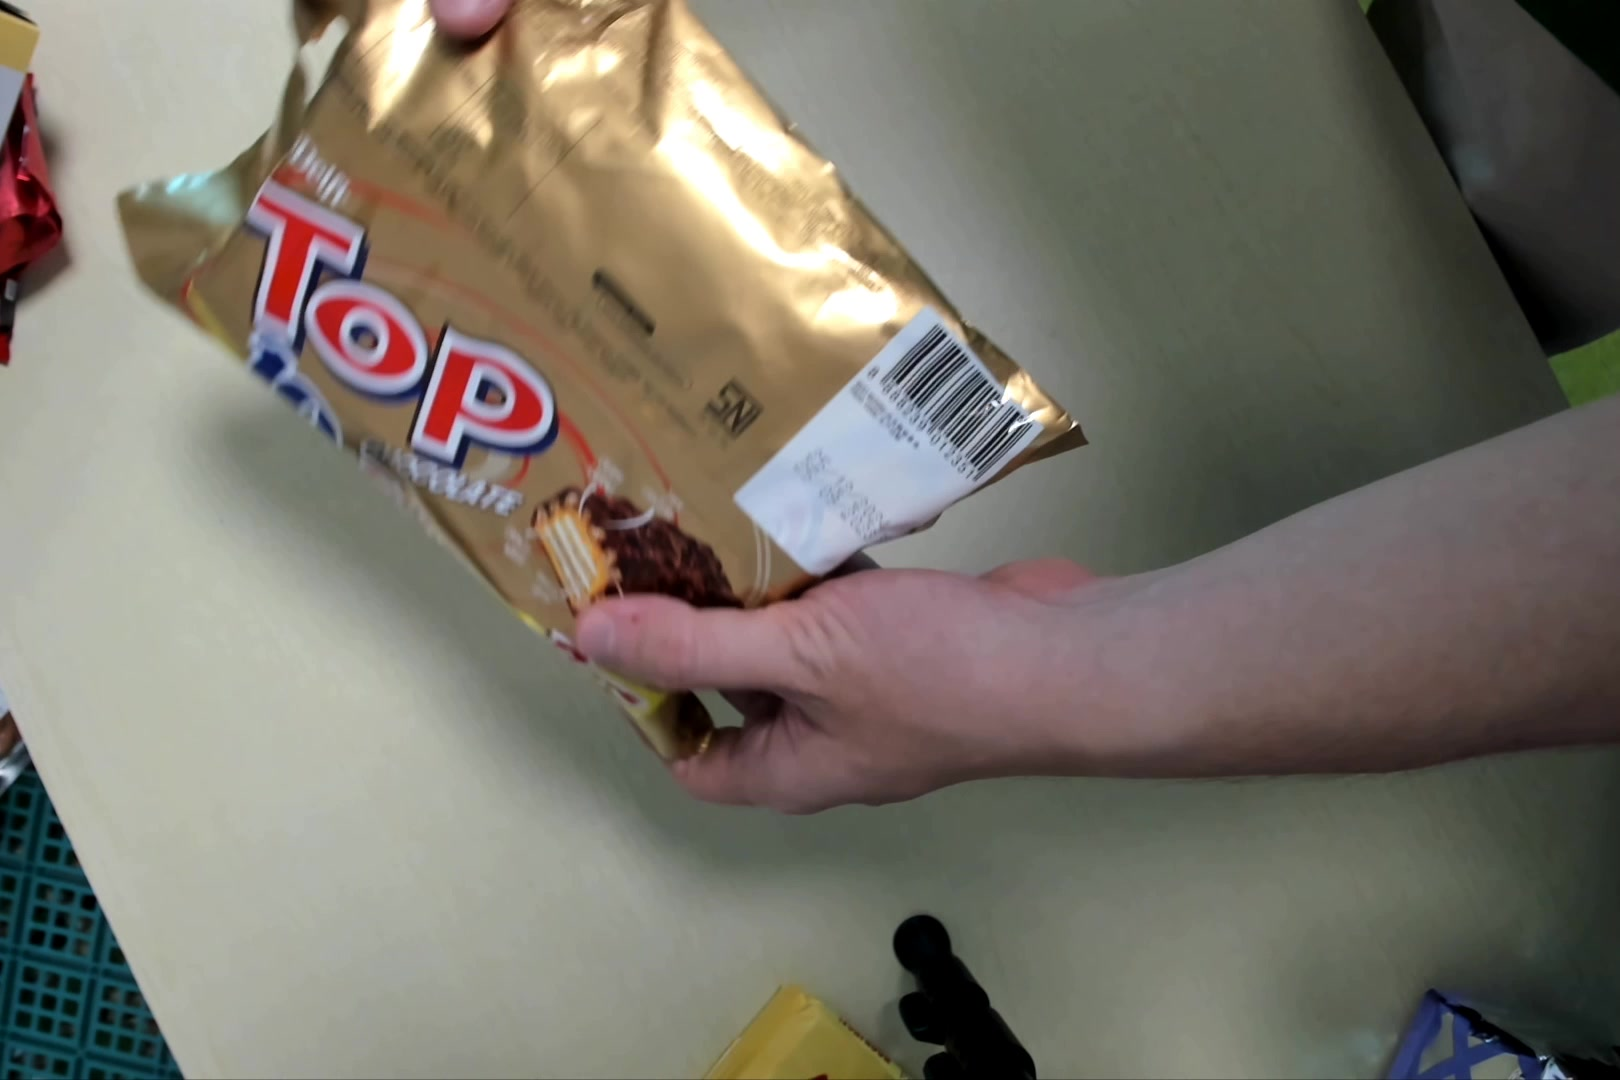SweetsChocolatesOthers_100-199g_NonHalal_NonHealthy: (139, 1, 1076, 757)
